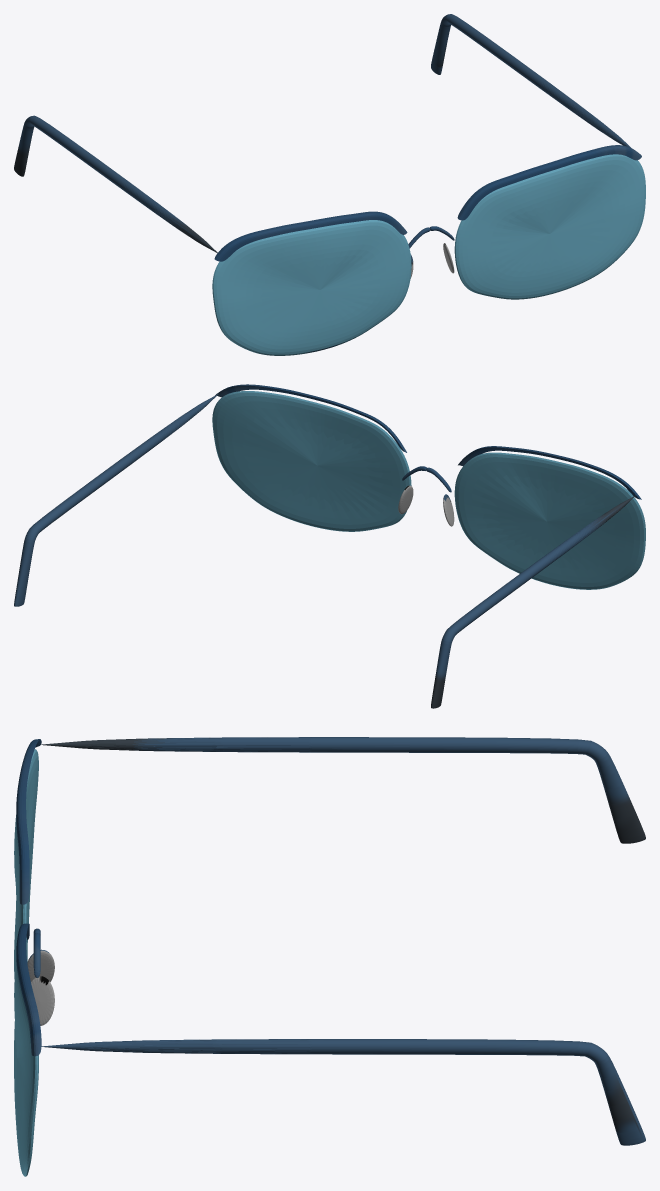
File: glasses-06.glb
3 views of the same model, one above another, from view 1: azimuth 30°, elevation 25°; view 2: azimuth 150°, elevation 25°; view 3: azimuth 270°, elevation 25° (orthographic). The views are drawn at different scales.
Parts seen in each view (by area): view 1: Object_4, Object_2; view 2: Object_4, Object_2; view 3: Object_2, Object_4.
Part boxes in pixels (bbox=[...]): Object_4: bbox=[212, 154, 645, 355]; Object_2: bbox=[14, 14, 641, 273]; Object_4: bbox=[212, 391, 645, 589]; Object_2: bbox=[14, 384, 641, 708]; Object_2: bbox=[16, 737, 645, 1145]; Object_4: bbox=[14, 749, 38, 1176].
Bounding box in the file's own units: 14.67 × 4.25 × 12.49.
Materials: 2 (2 with a texture image).
